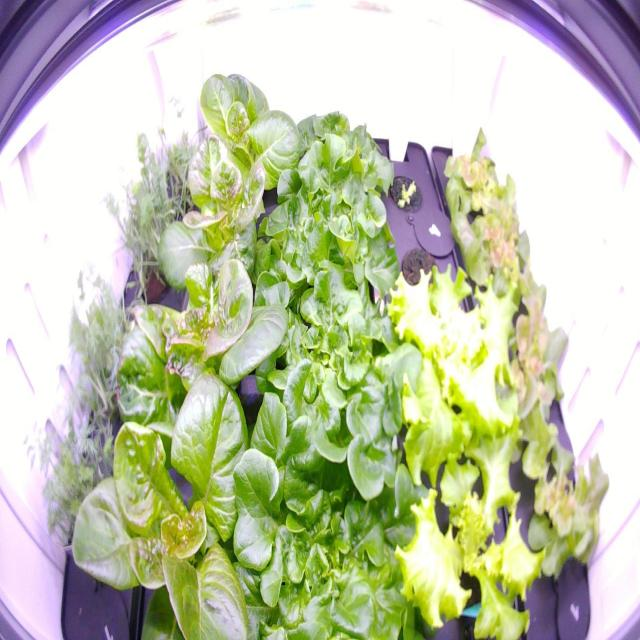pod: (396, 238, 442, 301)
young: (55, 359, 315, 639), (107, 237, 297, 481), (145, 125, 285, 318), (175, 59, 306, 247)
